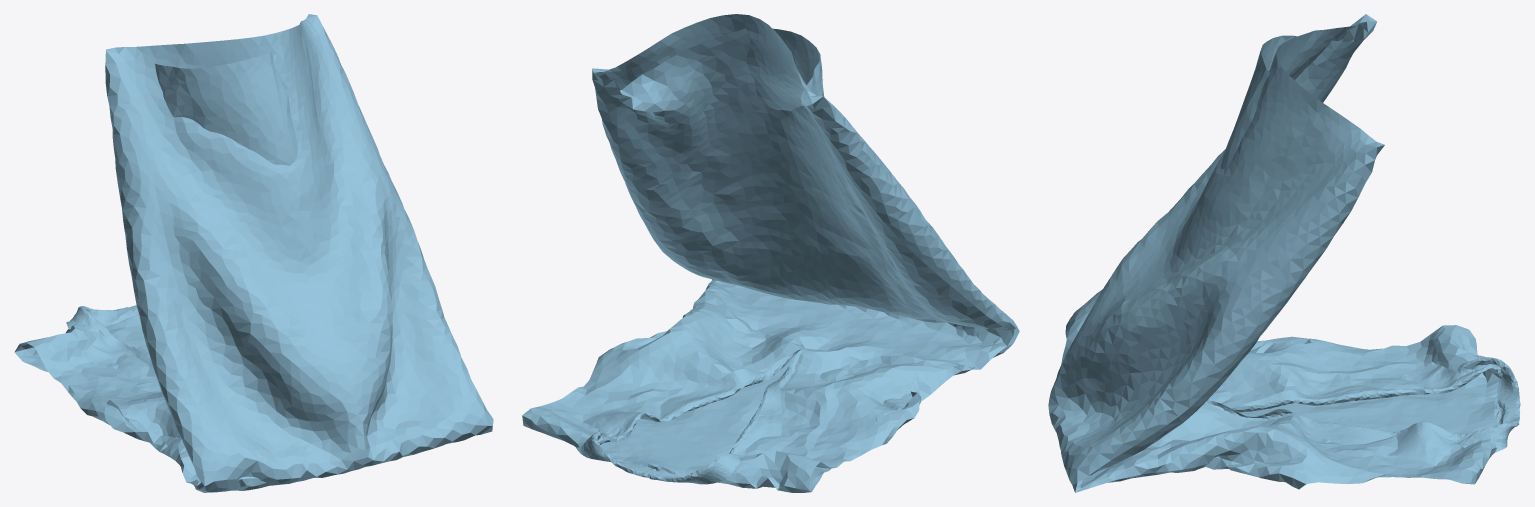
The model's file is frame_16.glb.
The picture shows the model from 3 angles, left to right: view 1: azimuth 30°, elevation 25°; view 2: azimuth 150°, elevation 25°; view 3: azimuth 270°, elevation 25°; orthographic projection. The views are drawn at different scales.
Parts seen in each view (by area): view 1: frame_16.obj; view 2: frame_16.obj; view 3: frame_16.obj.
Part boxes in pixels (left/top/right/bottom): frame_16.obj: left=14, top=14, right=493, bottom=492; frame_16.obj: left=522, top=14, right=1019, bottom=492; frame_16.obj: left=1048, top=14, right=1520, bottom=492.
Size of the model in its own units: 0.6221 by 0.7229 by 0.8239.
